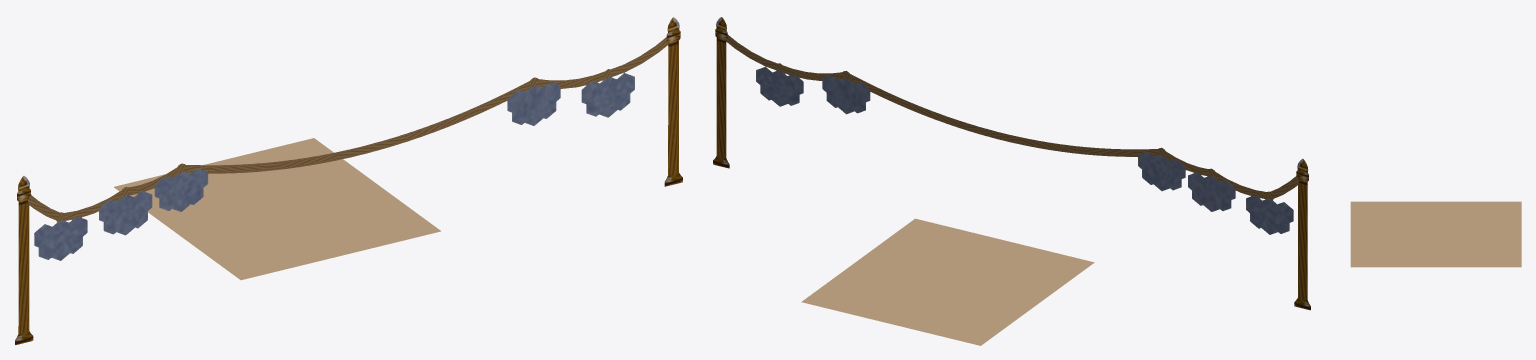
Rendered from toad-standee-rope-clouds.glb.
The picture shows the model from 3 angles, left to right: view 1: azimuth 30°, elevation 25°; view 2: azimuth 150°, elevation 25°; view 3: azimuth 270°, elevation 25°; orthographic projection. The views are drawn at different scales.
Parts seen in each view (by area): view 1: rope-clouds; view 2: rope-clouds; view 3: rope-clouds.
Part boxes in pixels (<box>): rope-clouds: <box>15,17,682,344</box>; rope-clouds: <box>713,17,1310,345</box>; rope-clouds: <box>1350,201,1521,267</box>.
Size of the model in its own units: 0.1 by 0.0241 by 0.035.
Materials: 1 (1 with a texture image).
